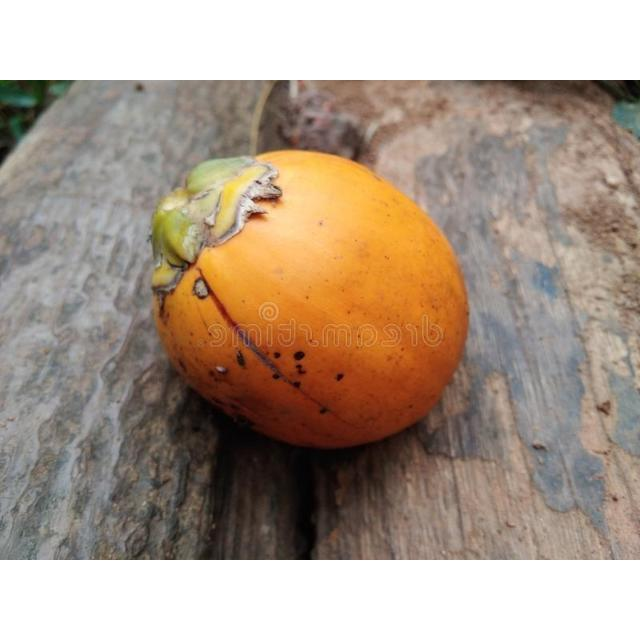good: (150, 150, 470, 453)
